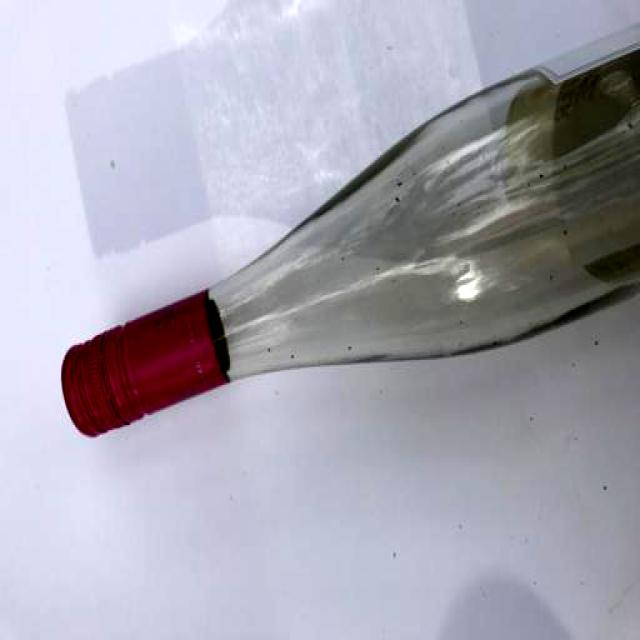Glass: (53, 11, 640, 463)
